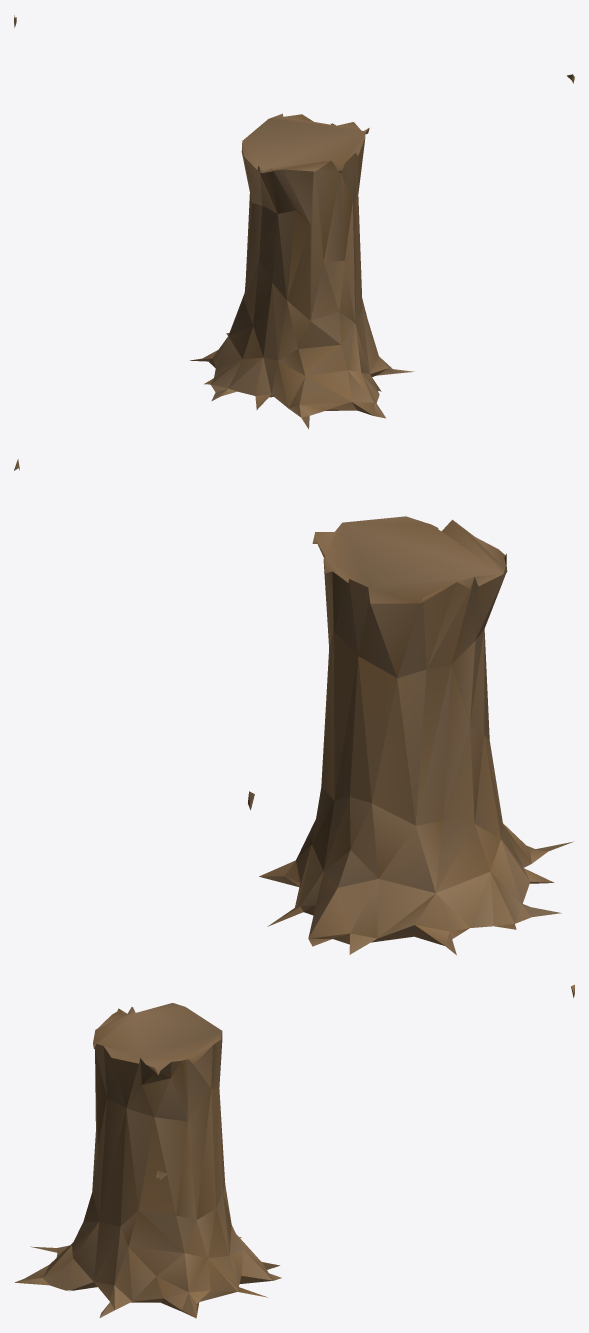
The model's file is pine_stump.glb.
3 renders of one model, top to bottom at view 1: azimuth 30°, elevation 25°; view 2: azimuth 150°, elevation 25°; view 3: azimuth 270°, elevation 25°, orthographic. The views are drawn at different scales.
Parts seen in each view (by area): view 1: Stump; view 2: Stump; view 3: Stump.
Part boxes in pixels (left/top/right/bottom): Stump: left=14, top=15, right=574, bottom=429; Stump: left=14, top=459, right=573, bottom=955; Stump: left=15, top=984, right=574, bottom=1318.
Size of the model in its own units: 1.13 by 0.6868 by 1.41.
